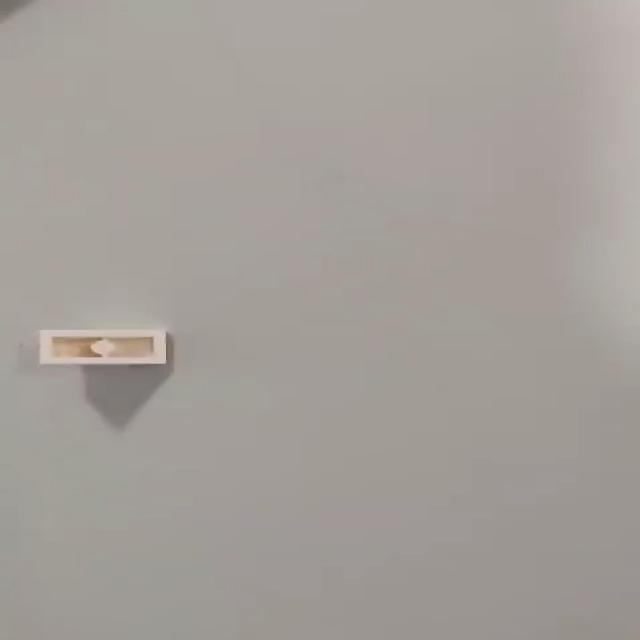P1x2x1: (34, 332, 178, 366)
